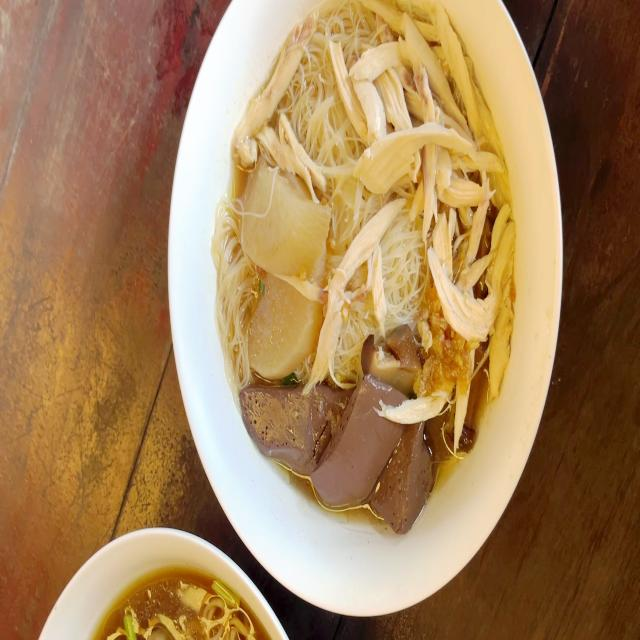boiled_chicken_blood_jelly: (237, 382, 352, 483), (316, 380, 398, 497), (384, 430, 426, 529)
chicken_shredded: (361, 0, 519, 424), (315, 192, 404, 386), (233, 14, 312, 160), (263, 120, 320, 190)
daikon_radish: (242, 160, 326, 270), (246, 272, 320, 384)
noodle: (227, 0, 500, 488)
